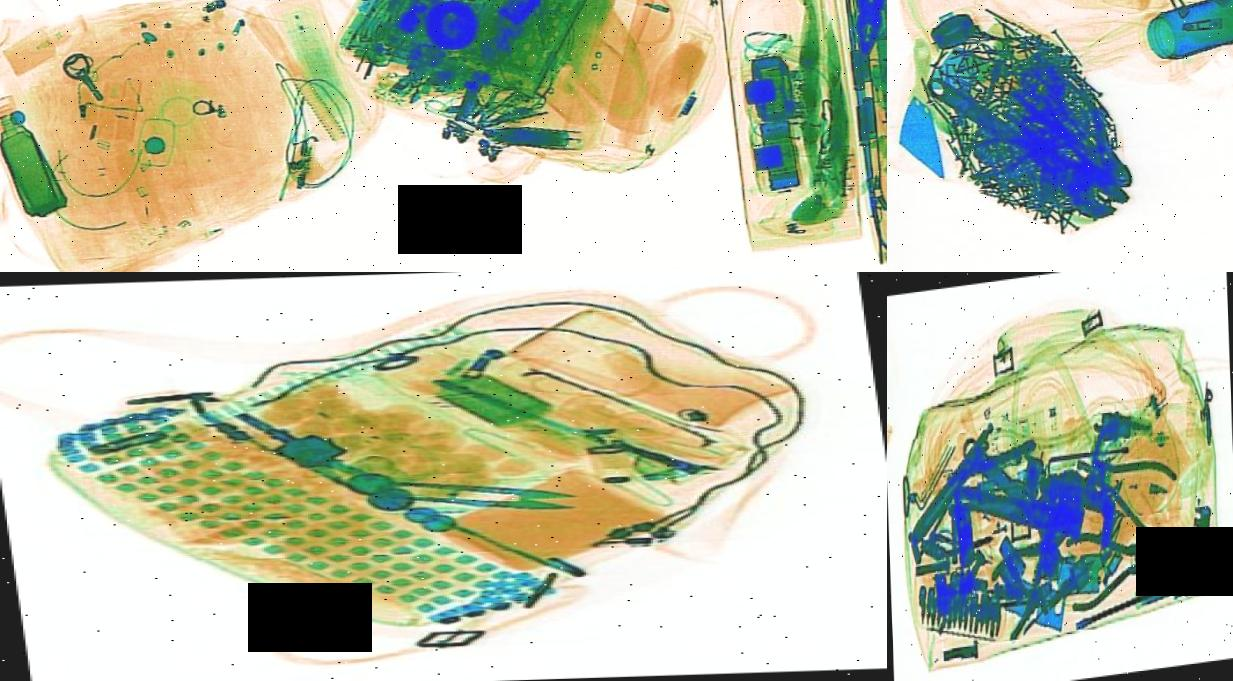Pliers: (1059, 416, 1196, 556), (964, 498, 1087, 646), (1060, 508, 1174, 612), (822, 0, 887, 55)
Scissors: (372, 472, 580, 515)
Wrench: (912, 43, 1134, 247), (950, 408, 1080, 564)
